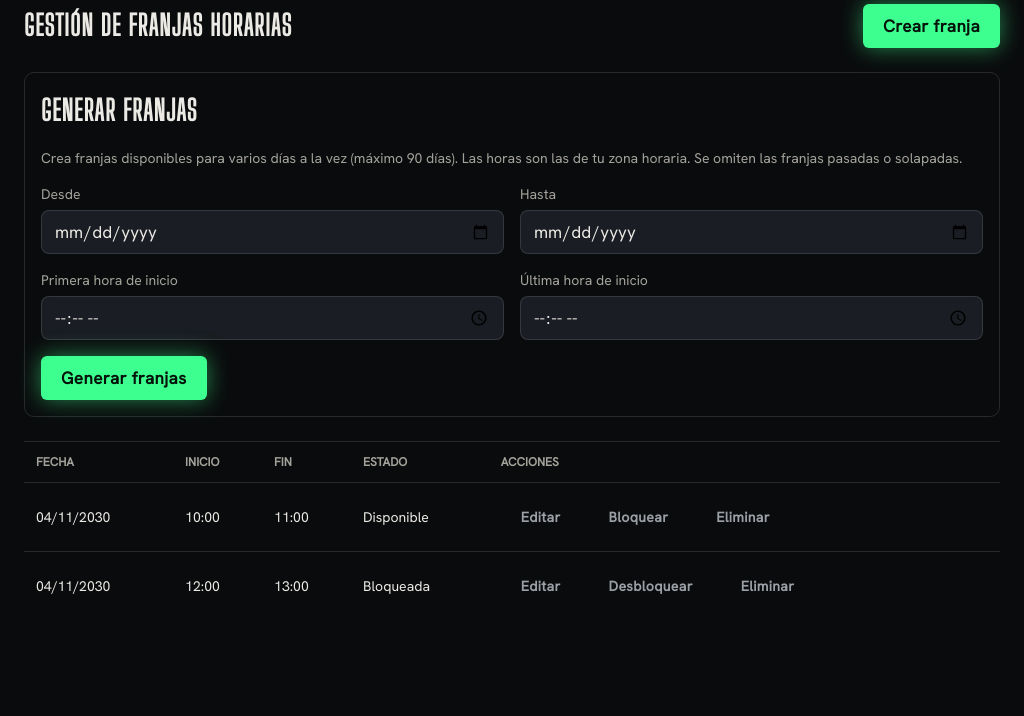
Test: AdminSlotsPage › edita una franja
Check: the text "10:00" is shown, box [173,483,262,552]
Click the button "Editar" in the row of "10:00".
click(541, 517)  # box [501,495,580,539]
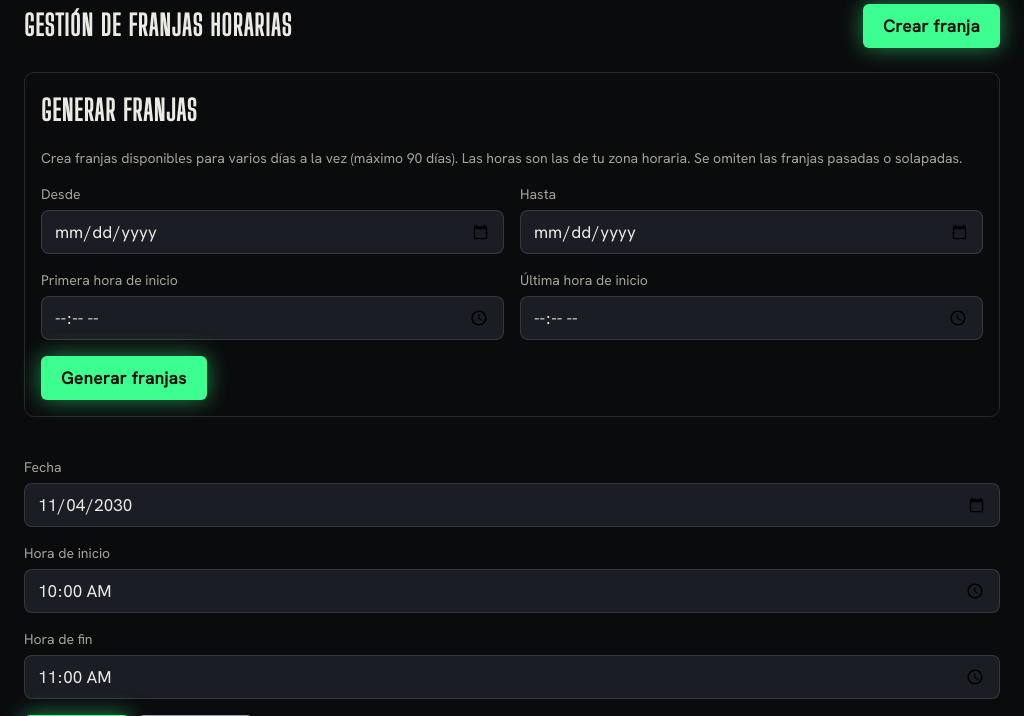
Replace the text in the time field labelled "Hora de fin" with "11:30" at (512, 677), box [24,655,1000,699]
(page scrolled)
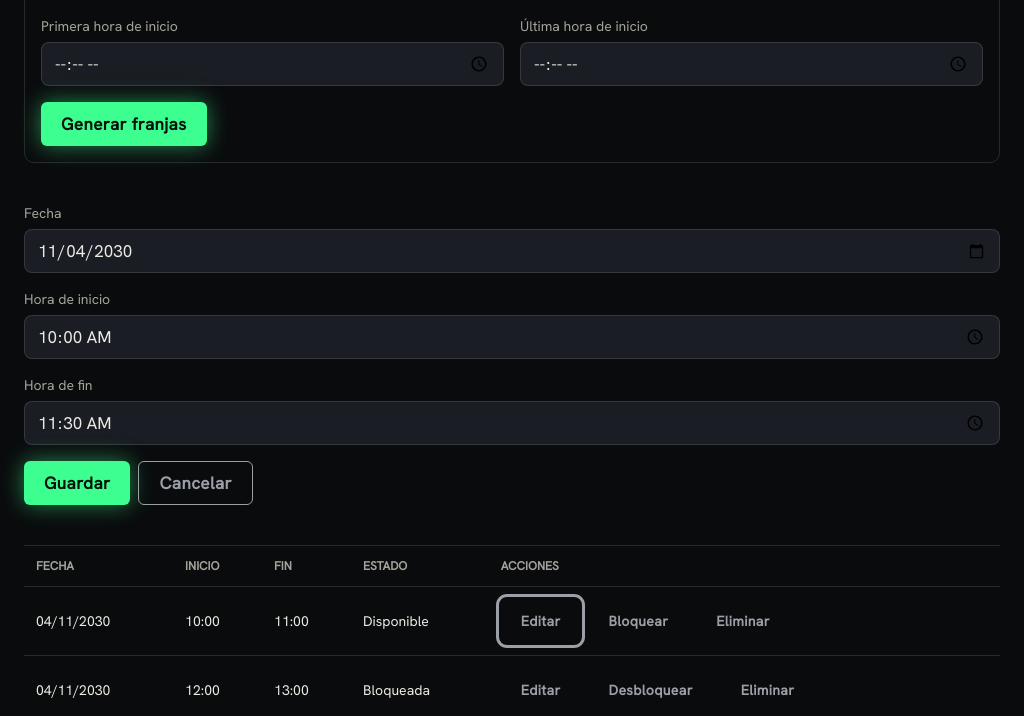
Click the button "Guardar".
click(77, 483)  # box [24,461,130,505]
(page scrolled)
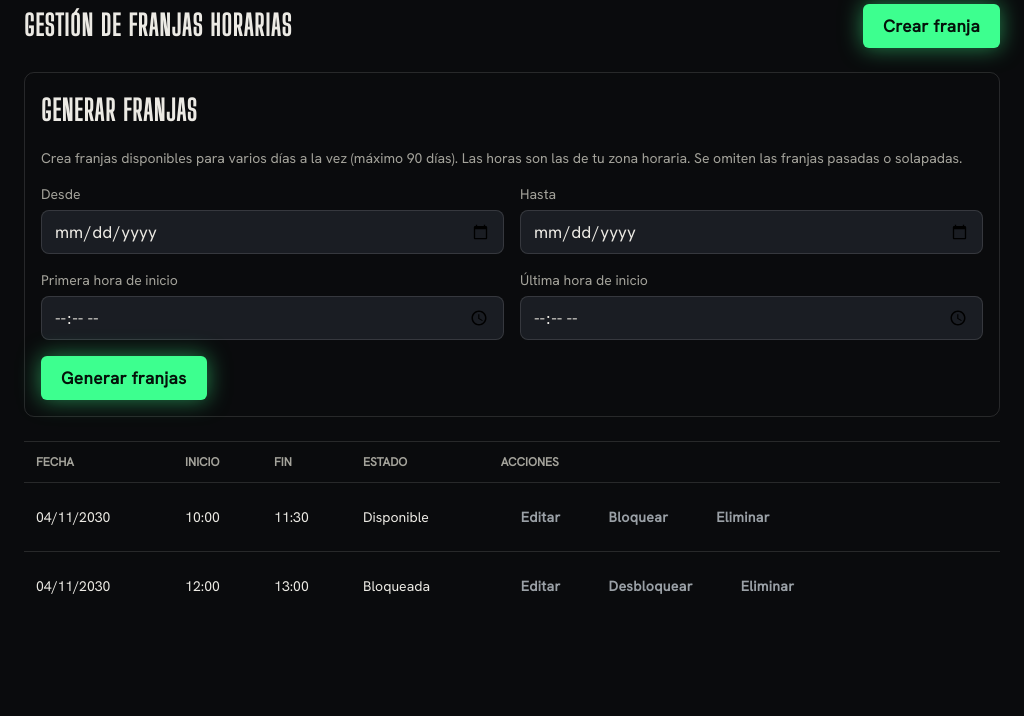
Check: the text "11:30" is shown, box [262,483,351,552]
